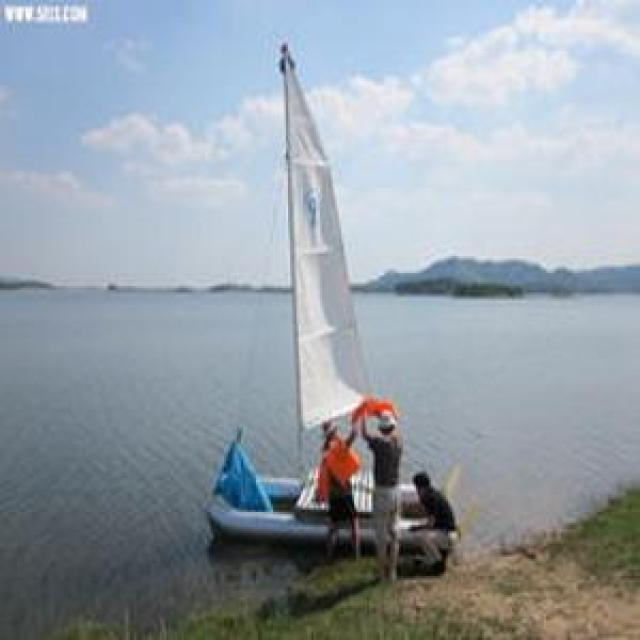sailboat: (177, 40, 460, 559)
